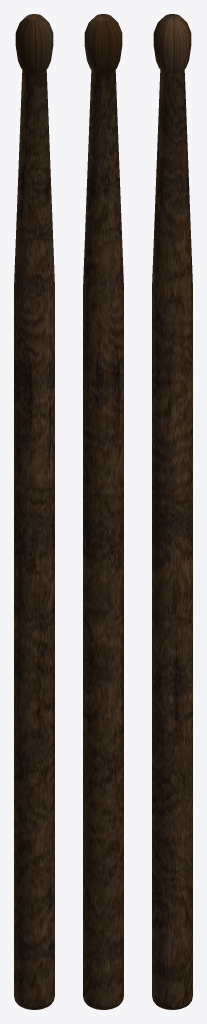
Rendered from baguette.glb.
3 renders of one model, left to right at view 1: azimuth 90°, elevation 25°; view 2: azimuth 150°, elevation 25°; view 3: azimuth 270°, elevation 25°, orthographic.
Parts seen in each view (by area): view 1: Cylinder; view 2: Cylinder; view 3: Cylinder.
Boxes of the visible parts, <box> form: Cylinder: <box>14,14,54,1009</box>; Cylinder: <box>83,14,123,1009</box>; Cylinder: <box>152,14,192,1009</box>.
Size of the model in its own units: 0.0133 by 0.3545 by 0.0133.
Materials: 1 (1 with a texture image).
